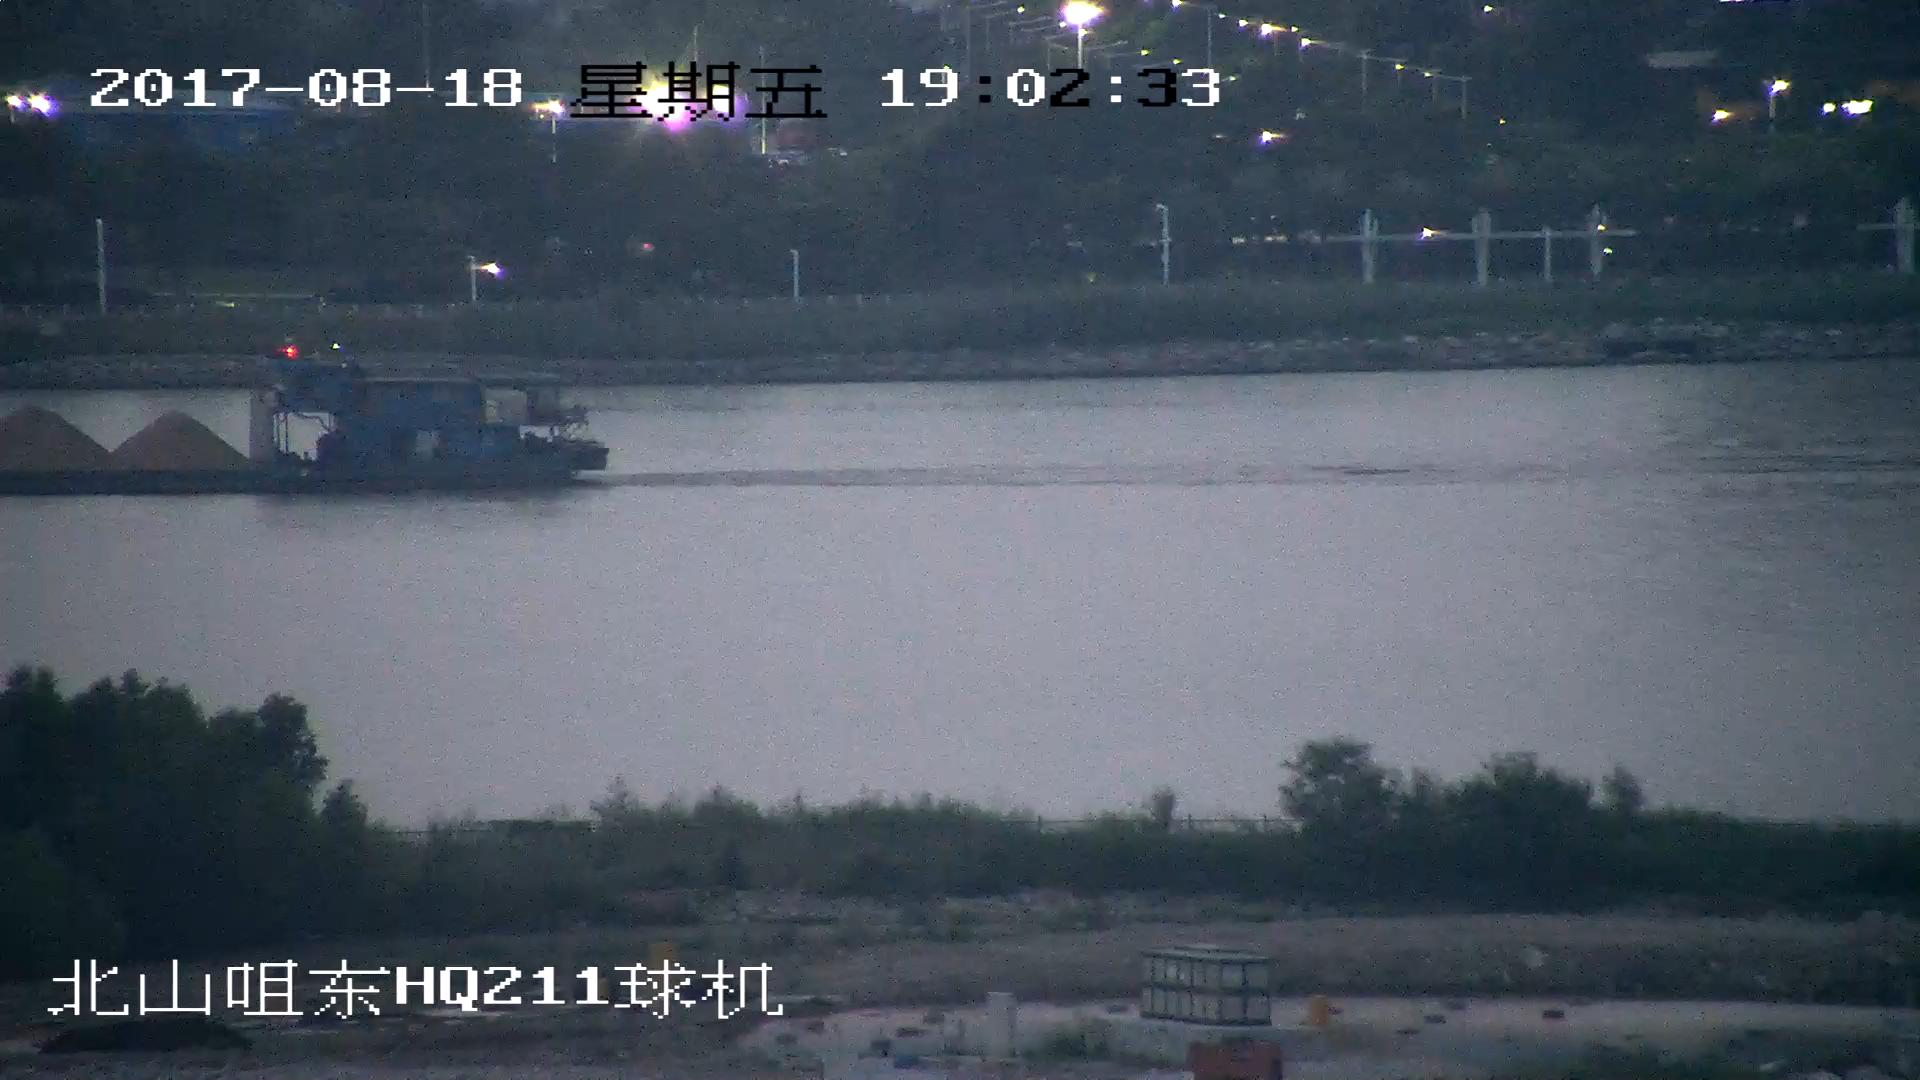ore carrier: (1, 338, 611, 489)
